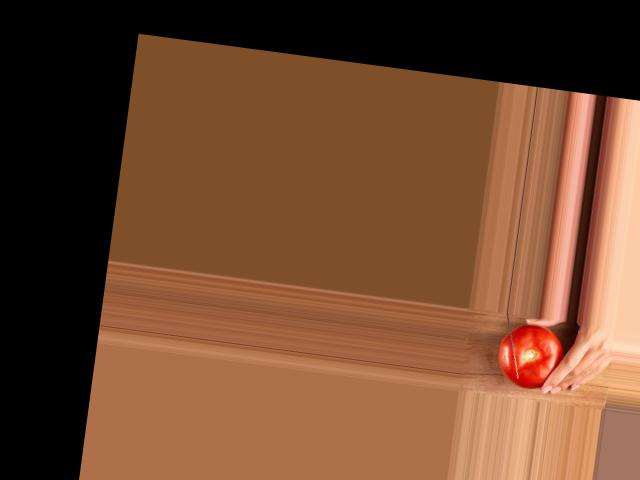tomato: (495, 321, 567, 392)
